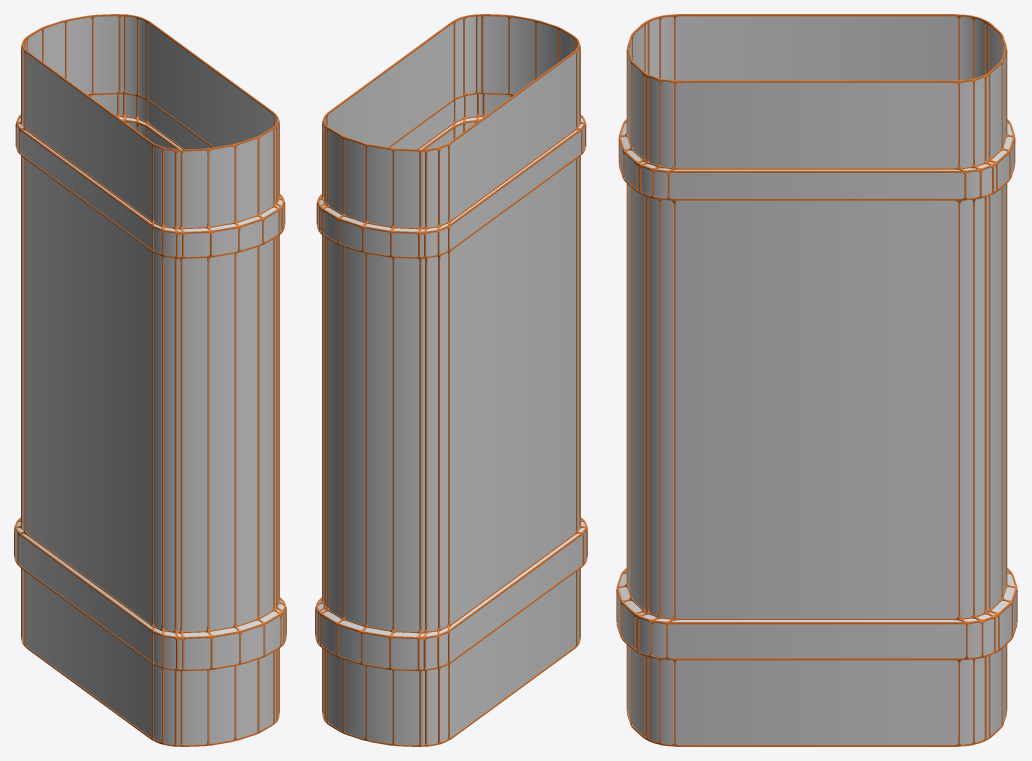
Rendered from fillerhotelart2.fbx.
3 views of the same model, side by side, from view 1: azimuth 30°, elevation 25°; view 2: azimuth 150°, elevation 25°; view 3: azimuth 270°, elevation 25° (orthographic). The views are drawn at different scales.
Parts seen in each view (by area): view 1: Cube.001; view 2: Cube.001; view 3: Cube.001.
Boxes of the visible parts, box(x1,y1,x2,y2) form: Cube.001: box(14, 14, 286, 746); Cube.001: box(315, 14, 587, 746); Cube.001: box(616, 14, 1017, 746).
Bounding box in the file's own units: 213 × 934 × 510.
